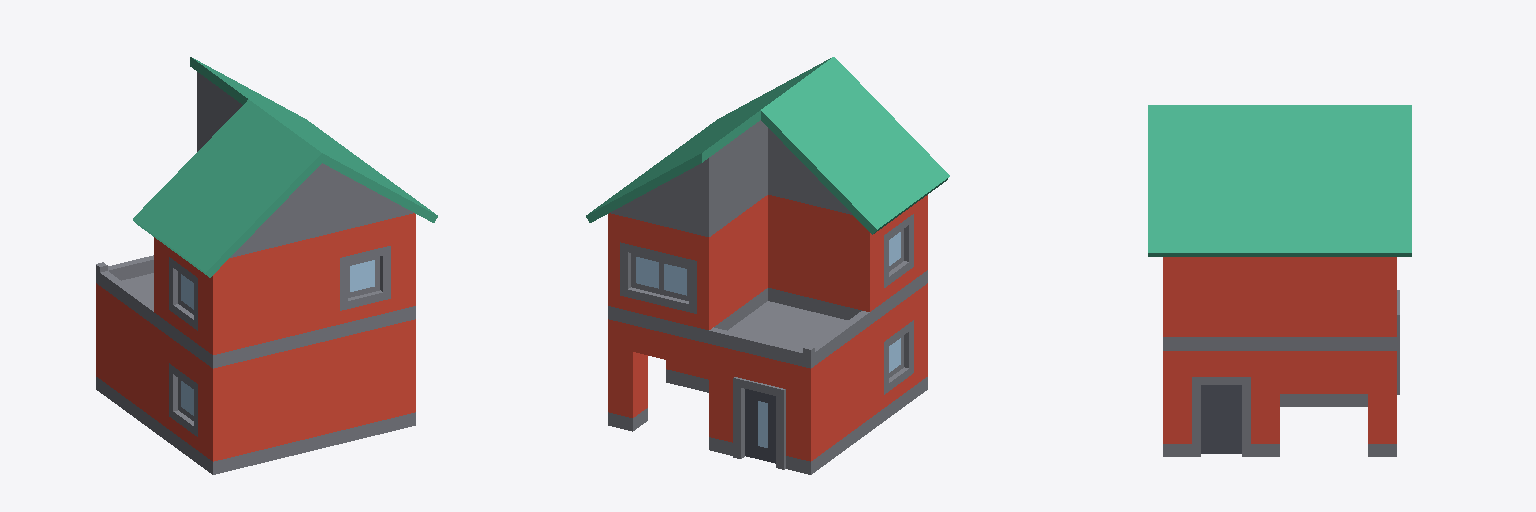
File: house_type16.obj
3 renders of one model, left to right at view 1: azimuth 30°, elevation 25°; view 2: azimuth 150°, elevation 25°; view 3: azimuth 270°, elevation 25°, orthographic.
Visible parts, largest first — view 1: house_type16; view 2: house_type16; view 3: house_type16.
Part boxes in pixels (bbox=[...]): house_type16: bbox=[96, 57, 437, 474]; house_type16: bbox=[586, 57, 949, 474]; house_type16: bbox=[1148, 105, 1411, 456].
Bounding box in the file's own units: 0.916 × 1.14 × 0.9.